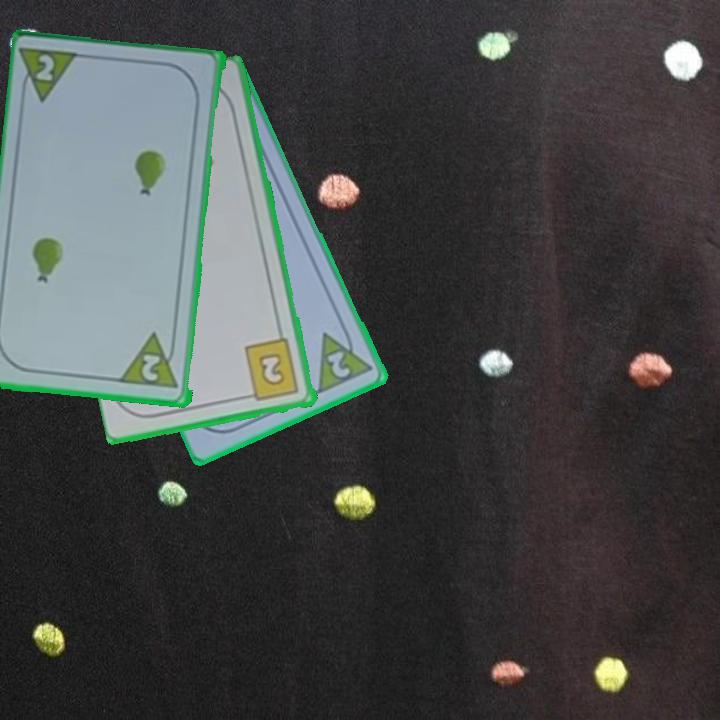2b: (241, 335, 303, 405)
2p: (324, 347, 354, 382), (138, 351, 165, 385), (33, 51, 58, 85)
